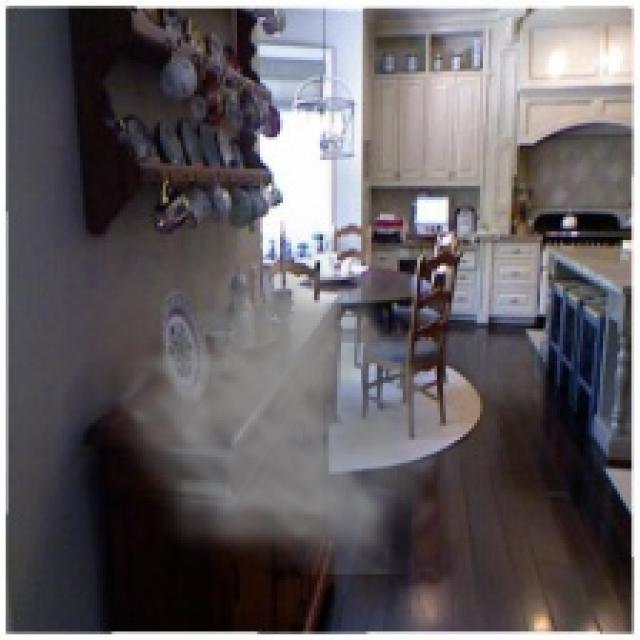Smoke: (100, 226, 474, 574)
